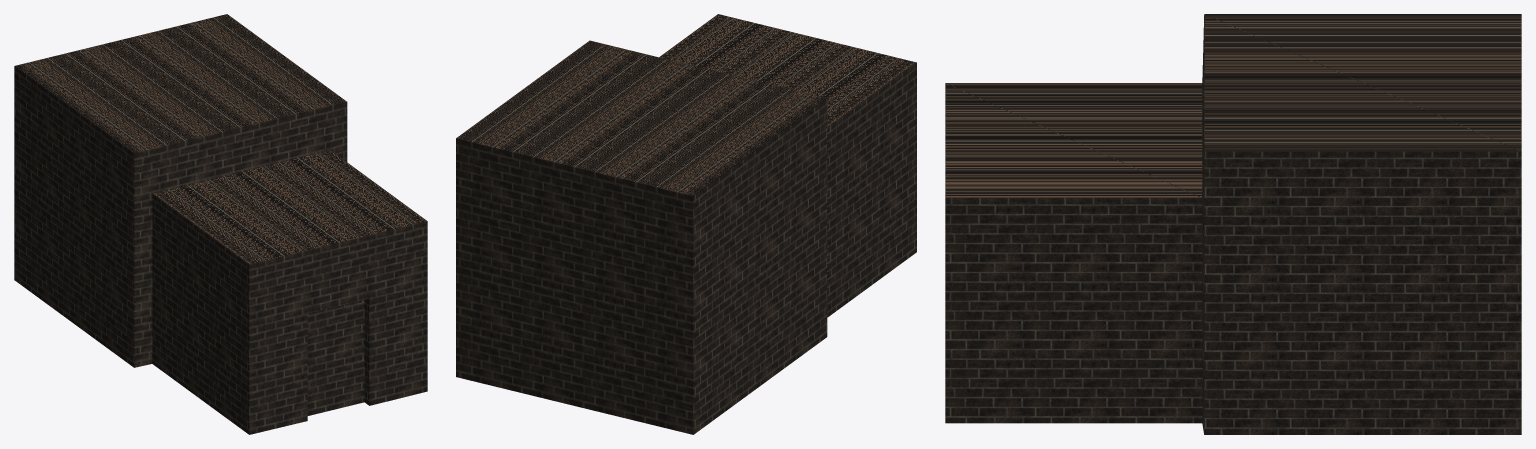
The model's file is building_01.fbx.
3 renders of one model, left to right at view 1: azimuth 30°, elevation 25°; view 2: azimuth 150°, elevation 25°; view 3: azimuth 270°, elevation 25°, orthographic. The views are drawn at different scales.
Parts seen in each view (by area): view 1: building_01; view 2: building_01; view 3: building_01.
Part boxes in pixels (box(x1,y1,x2,y2)): building_01: box(14, 14, 427, 434); building_01: box(456, 14, 916, 434); building_01: box(945, 14, 1521, 434).
Size of the model in its own units: 311 by 299 by 551.
Materials: 1 (1 with a texture image).
